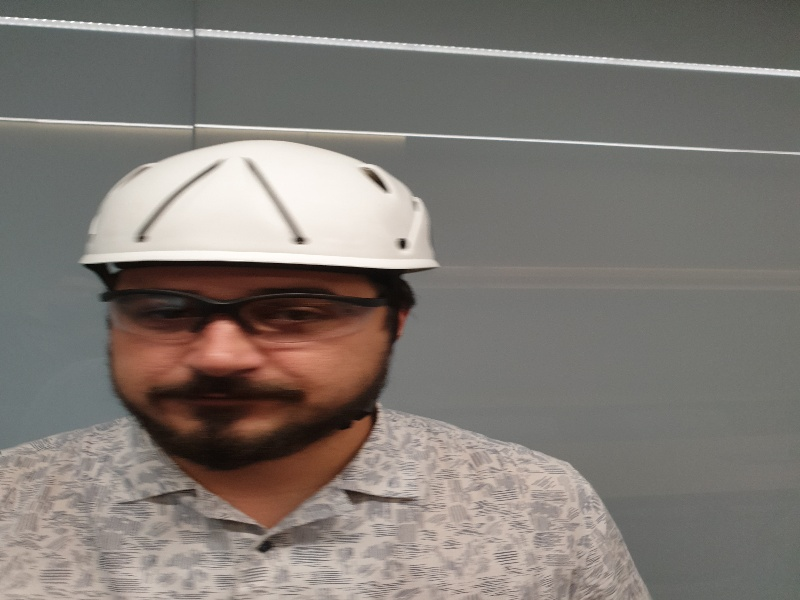Baret: (81, 139, 442, 272)
Gozluk: (96, 288, 401, 341)
